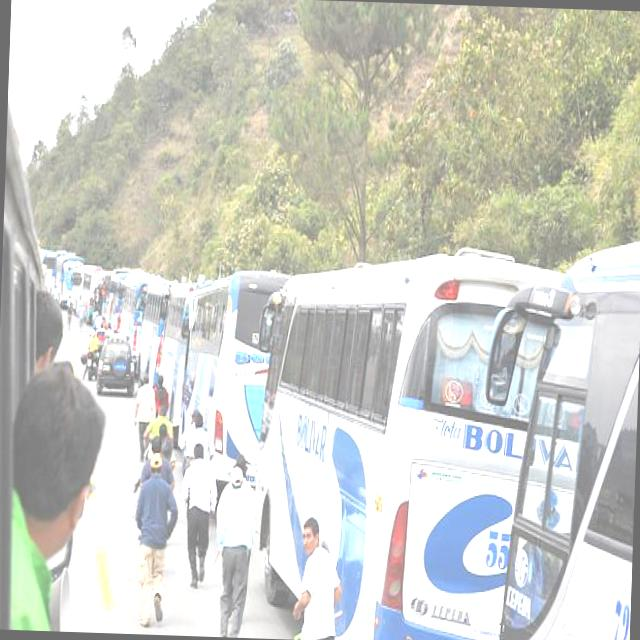Vehicle: (243, 235, 567, 640), (470, 233, 640, 640), (0, 91, 65, 631), (174, 267, 288, 488), (155, 281, 193, 454), (106, 268, 158, 362), (134, 275, 174, 389), (95, 334, 136, 398), (78, 265, 102, 308), (85, 351, 97, 381)
